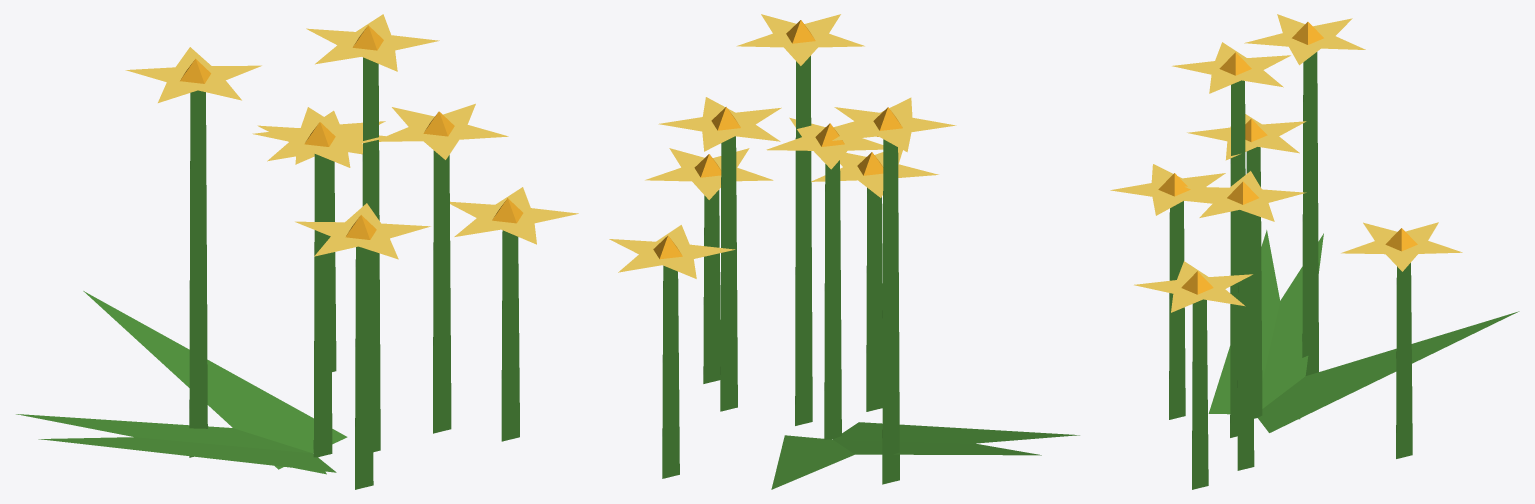
Rendered from Meadow_Flowers1.fbx.
3 views of the same model, side by side, from view 1: azimuth 30°, elevation 25°; view 2: azimuth 150°, elevation 25°; view 3: azimuth 270°, elevation 25° (orthographic). The views are drawn at different scales.
Parts seen in each view (by area): view 1: Meadow_Flowers1; view 2: Meadow_Flowers1; view 3: Meadow_Flowers1.
Boxes of the visible parts, x1,y1,x2,y2 form: Meadow_Flowers1: (16, 14, 578, 489); Meadow_Flowers1: (609, 14, 1079, 489); Meadow_Flowers1: (1110, 14, 1519, 489).
Size of the model in its own units: 0.5449 by 0.4533 by 0.442.
